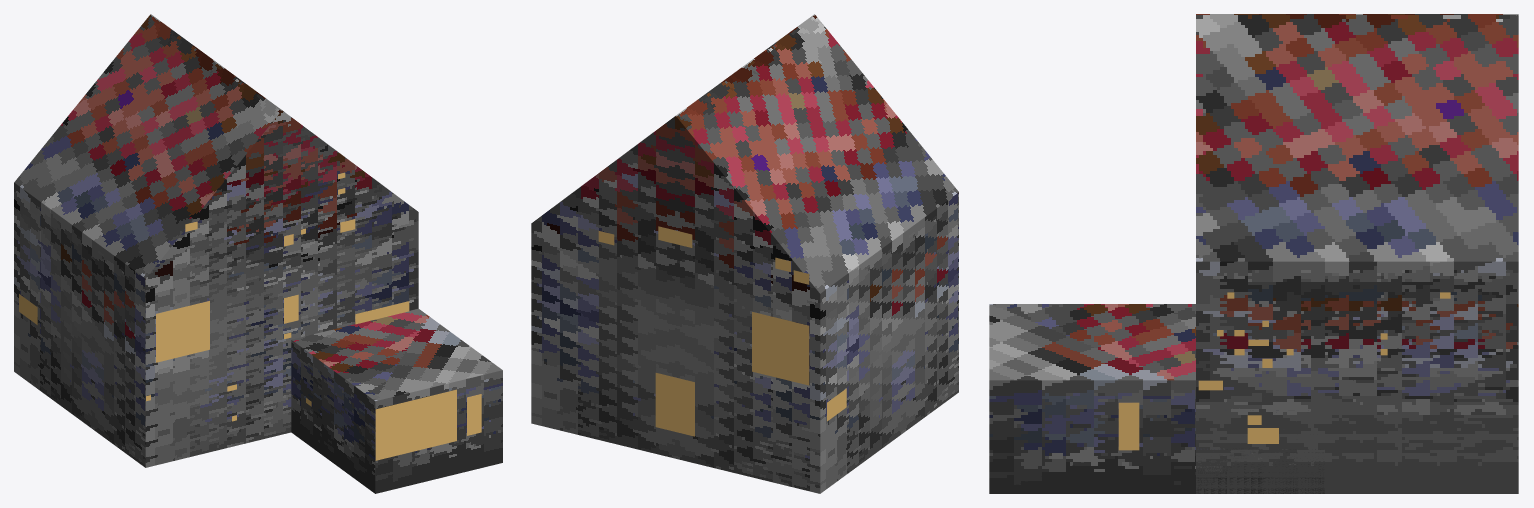
Rendered from dum_25_domy_0.glb.
The picture shows the model from 3 angles, left to right: view 1: azimuth 30°, elevation 25°; view 2: azimuth 150°, elevation 25°; view 3: azimuth 270°, elevation 25°; orthographic projection. The views are drawn at different scales.
Parts seen in each view (by area): view 1: object 1, noc; view 2: object 1, noc; view 3: object 1, noc.
Boxes of the visible parts, x1,y1,x2,y2 form: object 1: (14,14,502,493); noc: (19,172,481,460); object 1: (531,14,958,493); noc: (598,226,846,436); object 1: (989,14,1518,493); noc: (1118,292,1450,450).
Size of the model in its own units: 6.98 by 7.87 by 9.52.
1 material, 1 textured.
